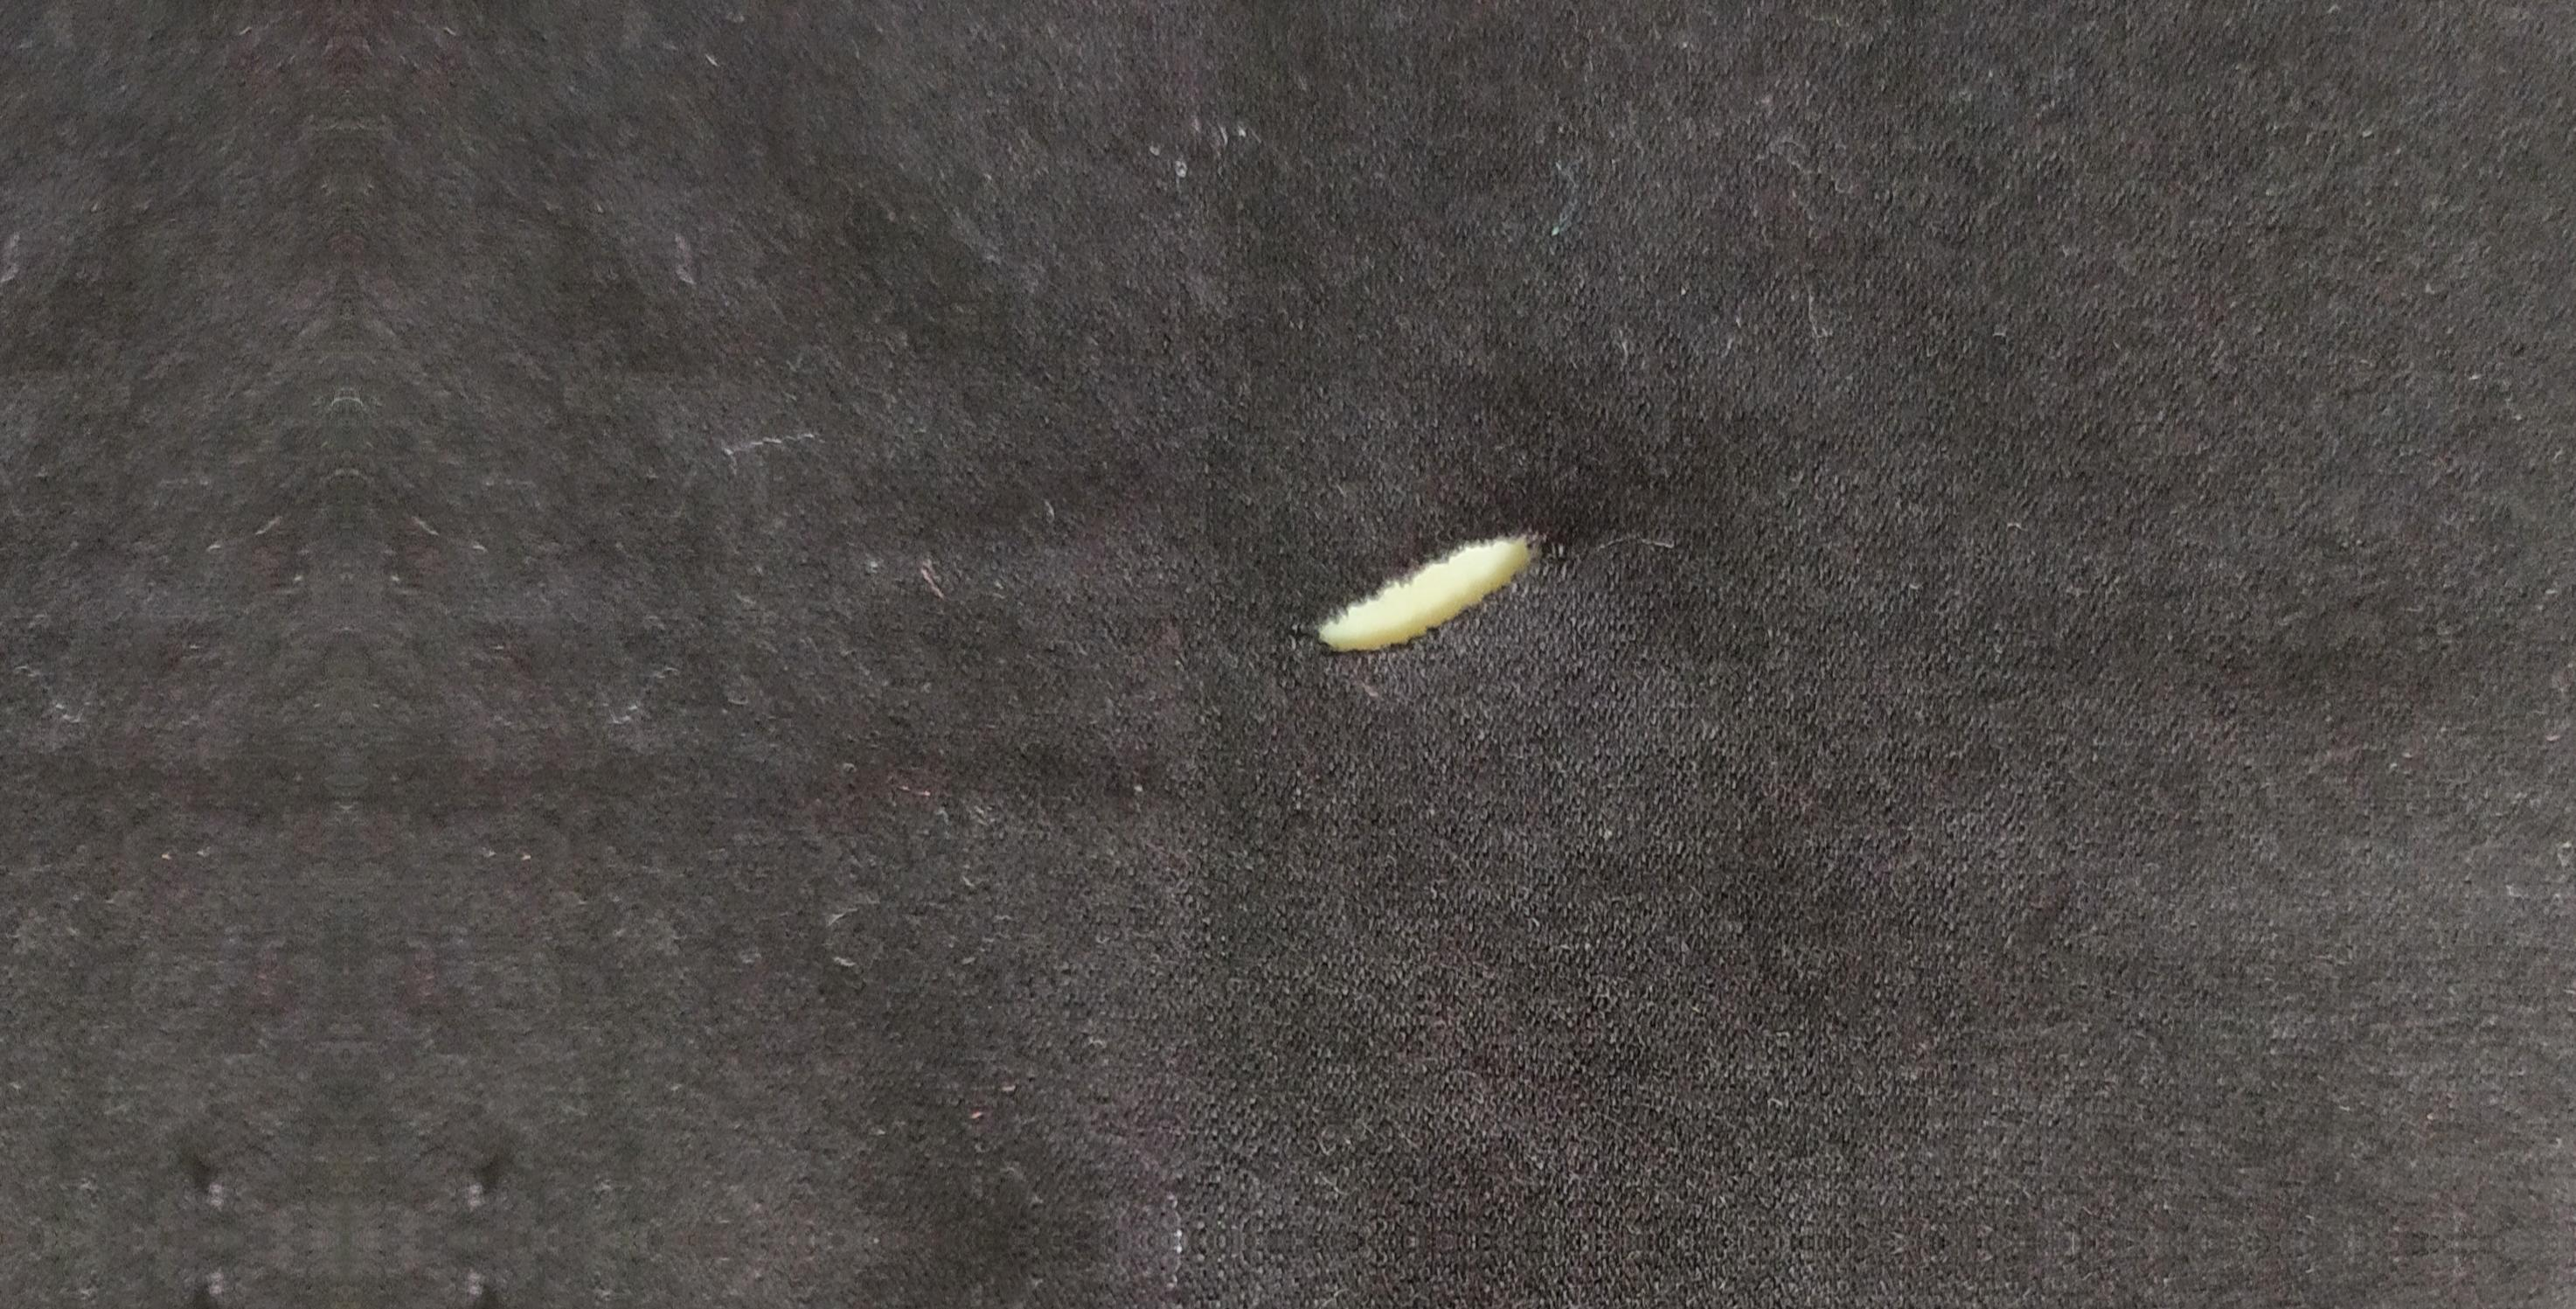hole: (1295, 516, 1573, 663)
